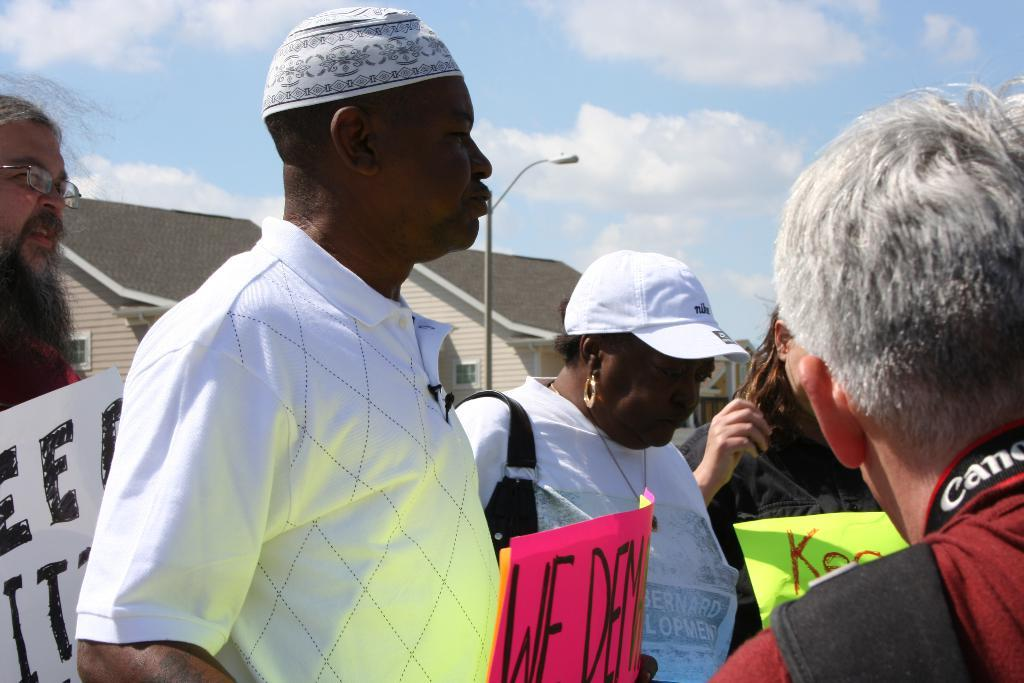Hat: (564, 246, 750, 359)
